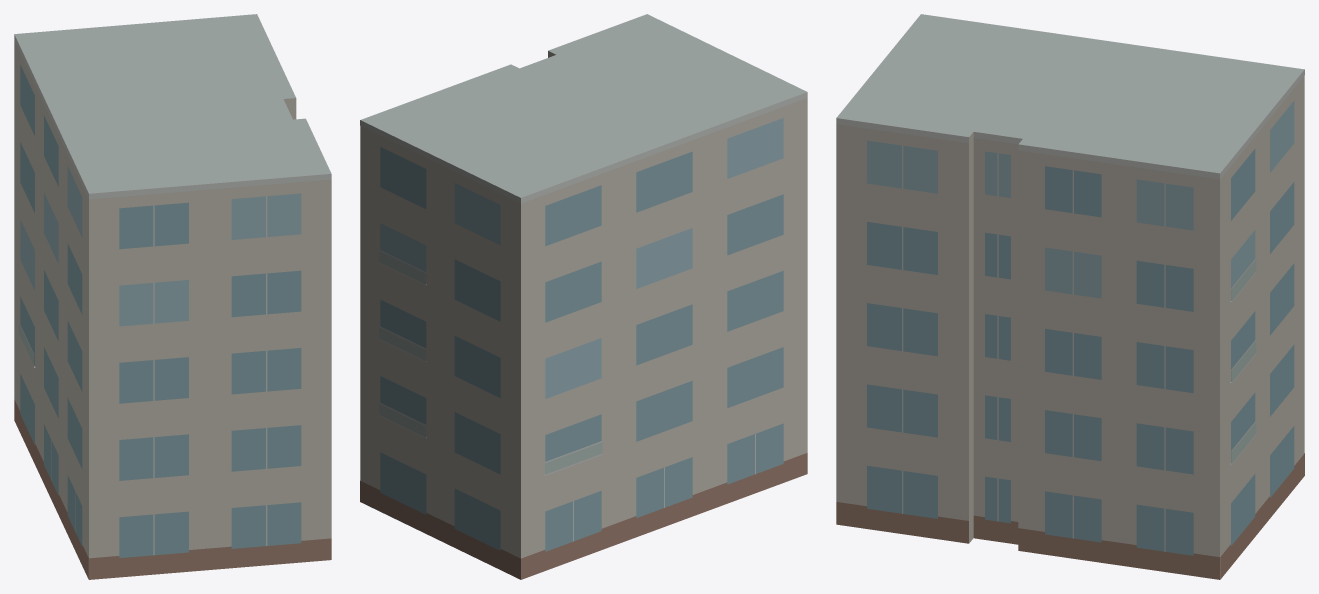
Rendered from survey-upis-32705381.glb.
The picture shows the model from 3 angles, left to right: view 1: azimuth 30°, elevation 25°; view 2: azimuth 150°, elevation 25°; view 3: azimuth 270°, elevation 25°; orthographic projection. The views are drawn at different scales.
Parts seen in each view (by area): view 1: survey-upis-32705381.tmp; view 2: survey-upis-32705381.tmp; view 3: survey-upis-32705381.tmp.
Boxes of the visible parts, x1,y1,x2,y2 form: survey-upis-32705381.tmp: [14, 14, 331, 579]; survey-upis-32705381.tmp: [360, 14, 807, 579]; survey-upis-32705381.tmp: [836, 14, 1304, 579].
Bounding box in the file's own units: 13.77 × 16.36 × 17.1.
